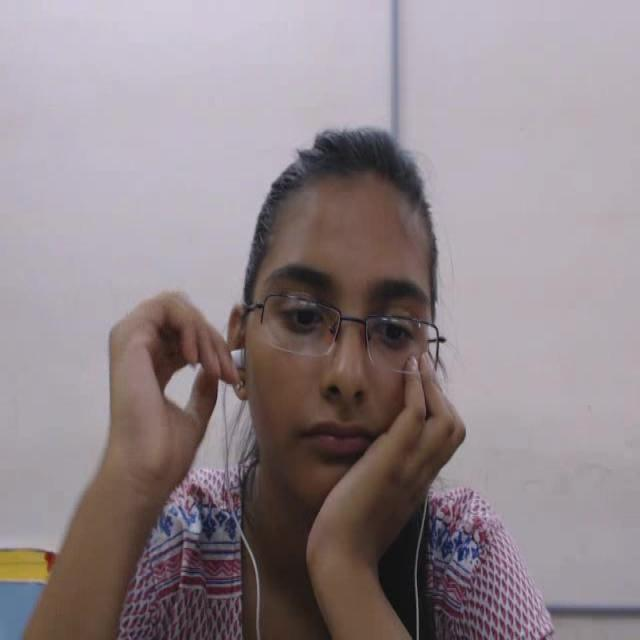Bored: (204, 85, 498, 598)
